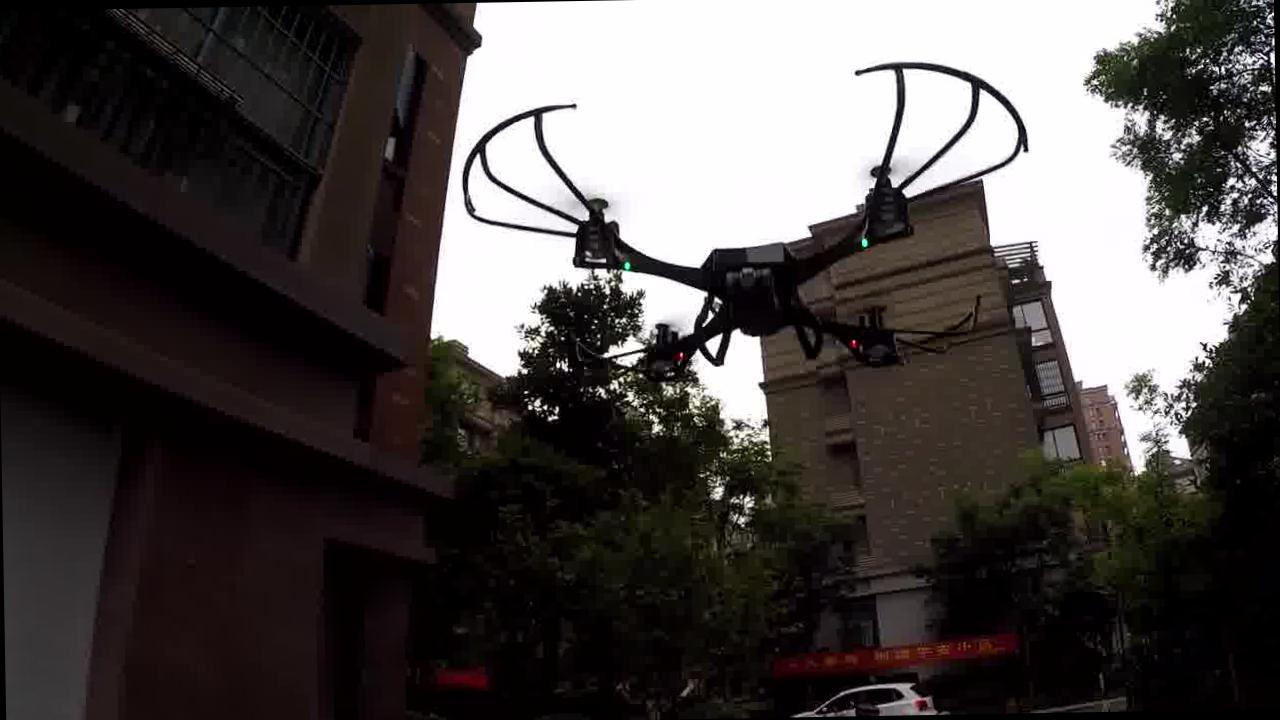drone: (441, 49, 1038, 448)
